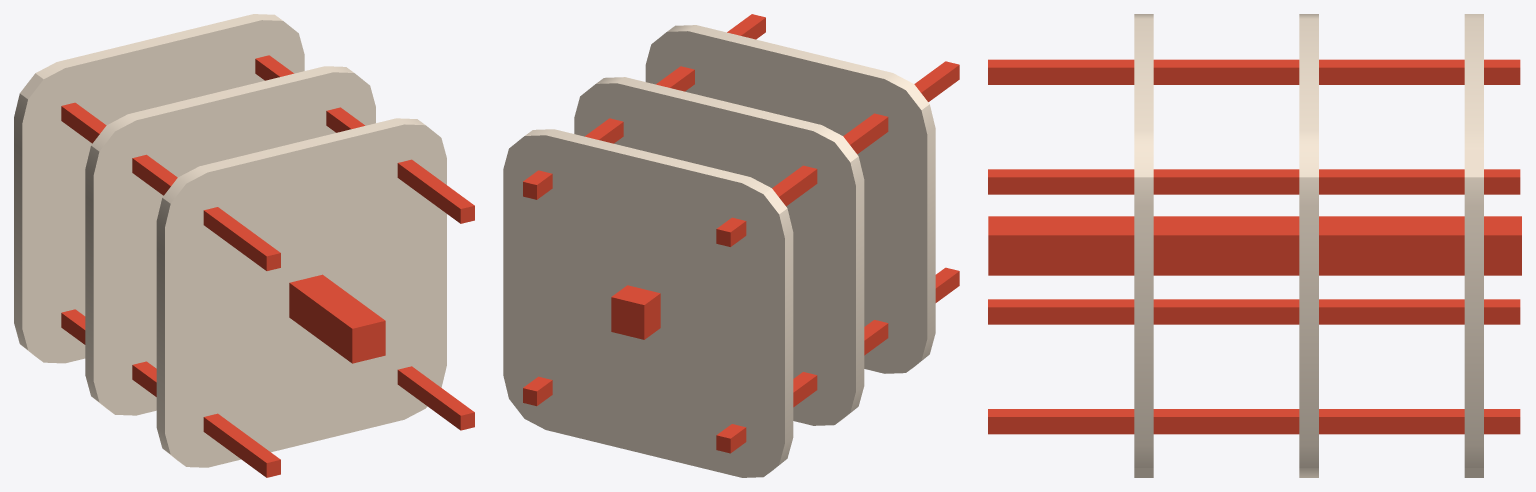
The model's file is B_Construction01.fbx.
The picture shows the model from 3 angles, left to right: view 1: azimuth 30°, elevation 25°; view 2: azimuth 150°, elevation 25°; view 3: azimuth 270°, elevation 25°; orthographic projection. The views are drawn at different scales.
Parts seen in each view (by area): view 1: construction; view 2: construction; view 3: construction.
Boxes of the visible parts, left/top/right/bottom form: construction: left=14, top=14, right=474, bottom=477; construction: left=503, top=14, right=959, bottom=477; construction: left=988, top=14, right=1521, bottom=477.
Bounding box in the file's own units: 800 × 800 × 1131.
